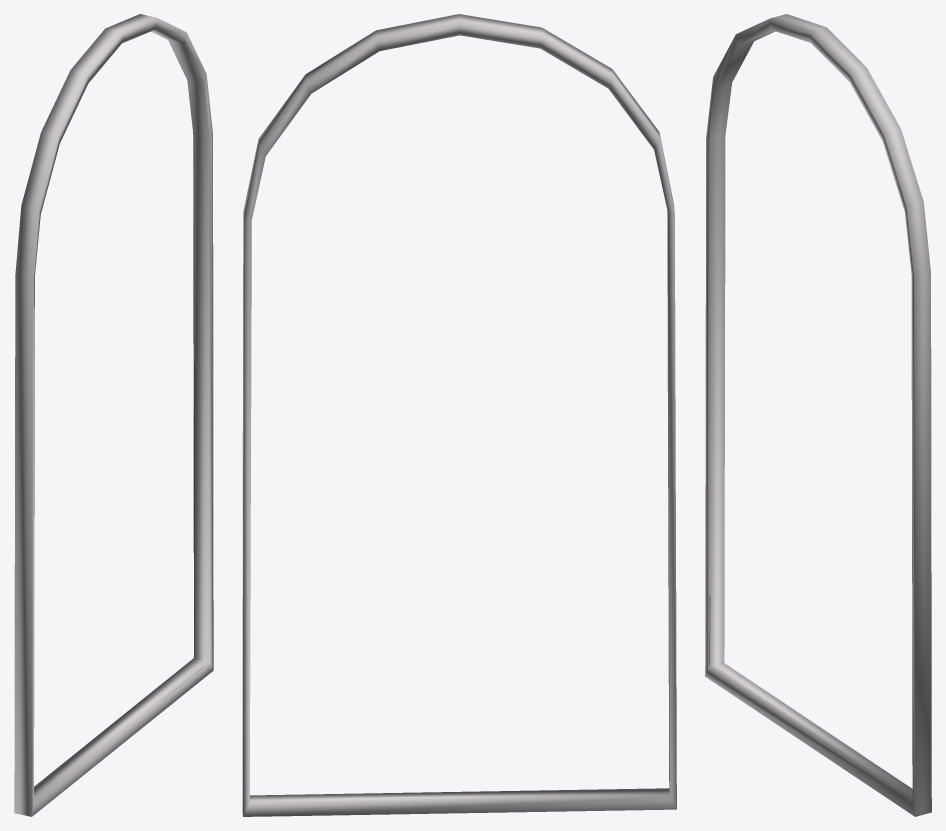
File: bowfrontrw.obj
The picture shows the model from 3 angles, left to right: view 1: azimuth 30°, elevation 25°; view 2: azimuth 150°, elevation 25°; view 3: azimuth 270°, elevation 25°; orthographic projection. The views are drawn at different scales.
Visible parts, largest first — view 1: polySurface203; view 2: polySurface203; view 3: polySurface203.
Boxes of the visible parts, bbox=[...] form: polySurface203: bbox=[14, 14, 213, 816]; polySurface203: bbox=[242, 14, 676, 816]; polySurface203: bbox=[705, 14, 931, 816].
Size of the model in its own units: 86.63 by 199 by 57.3.
1 material, 1 textured.
